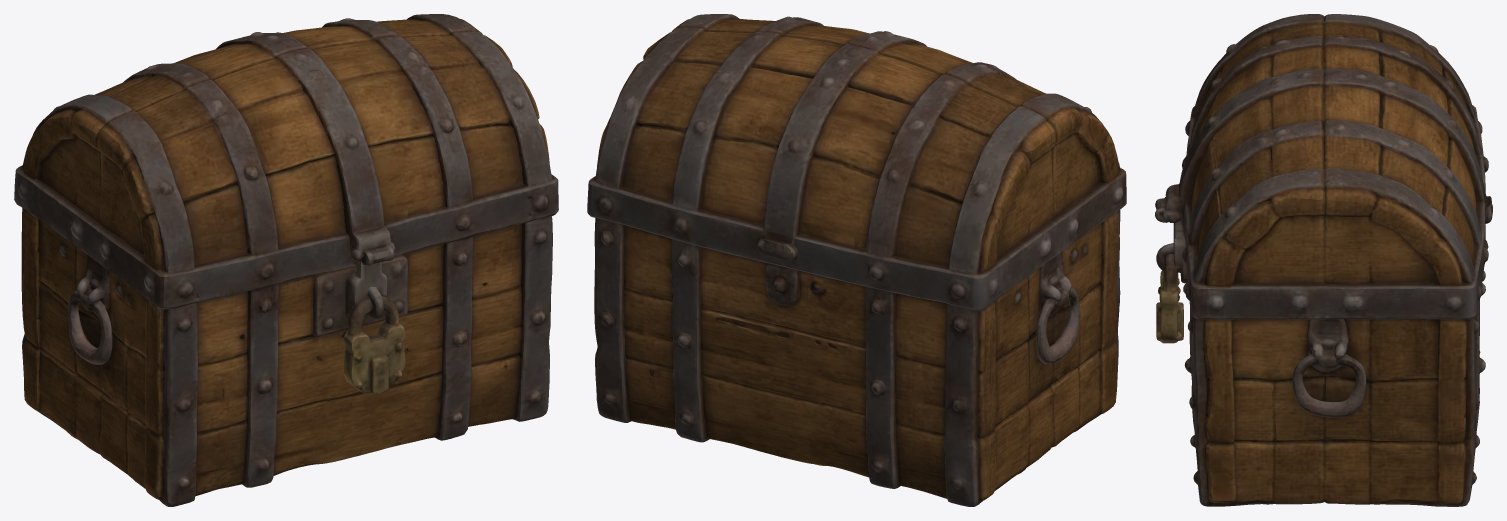
Rendered from whole.glb.
3 renders of one model, left to right at view 1: azimuth 30°, elevation 25°; view 2: azimuth 150°, elevation 25°; view 3: azimuth 270°, elevation 25°, orthographic. The views are drawn at different scales.
Parts seen in each view (by area): view 1: world; view 2: world; view 3: world.
Part boxes in pixels (<box>): world: <box>14,14,558,506</box>; world: <box>587,14,1126,506</box>; world: <box>1155,14,1492,506</box>.
Bounding box in the file's own units: 0.6 × 0.5127 × 0.4495.
Materials: 1 (1 with a texture image).
